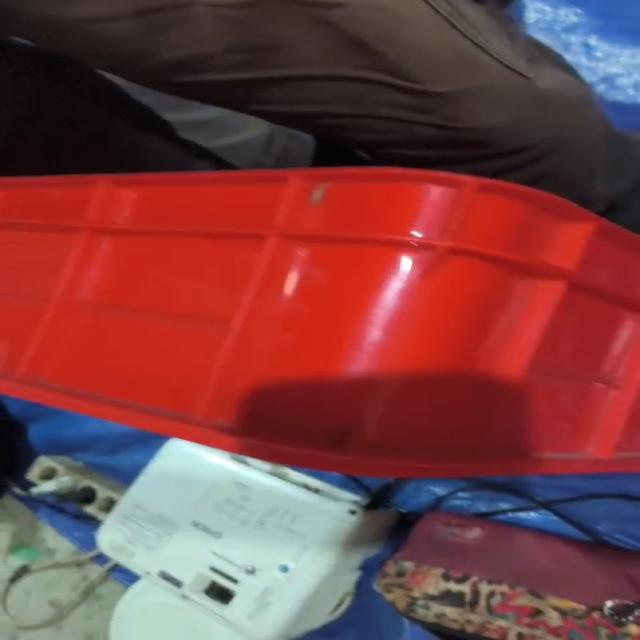red plastic box: (0, 166, 639, 480)
